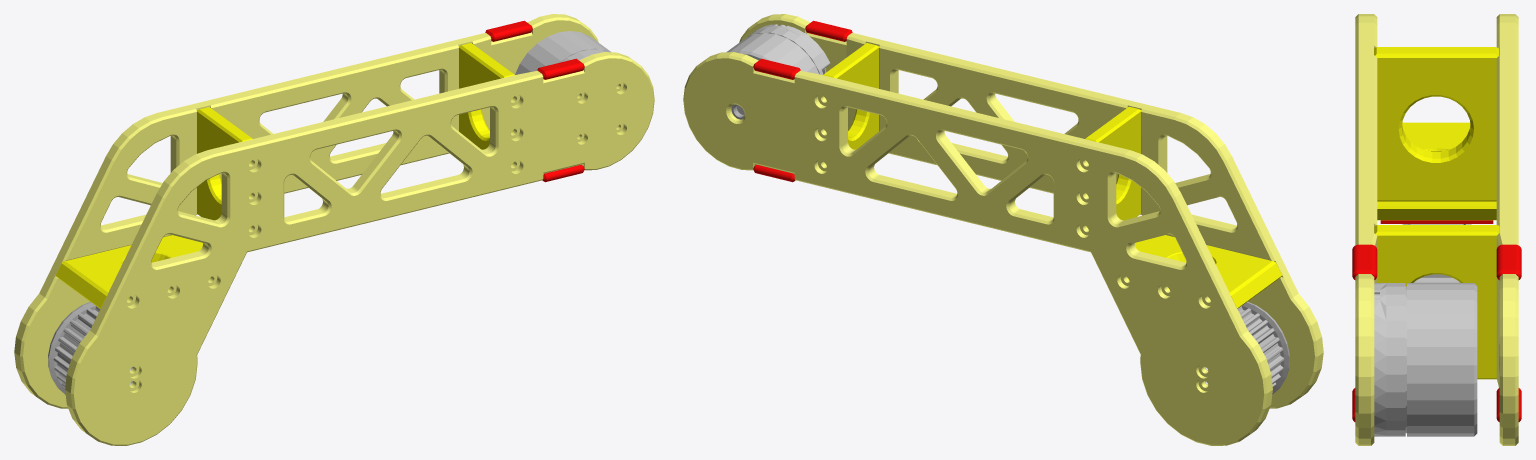
The model's file is elbow_link.dae.
3 views of the same model, side by side, from view 1: azimuth 30°, elevation 25°; view 2: azimuth 150°, elevation 25°; view 3: azimuth 270°, elevation 25° (orthographic). The views are drawn at different scales.
Visible parts, largest first — view 1: node7, node6, node12, node1, node5, node9, node10; view 2: node6, node7, node12, node10, node1, node5, node9; view 3: node10, node1, node6, node5, node7, node12, node4, node13, node8, node9, node2.
Part boxes in pixels (x1,y1,x2,y2): node7: (65,52,654,445); node6: (14,14,598,408); node12: (55,235,210,308); node1: (197,107,252,228); node5: (459,43,514,164); node9: (48,301,100,394); node10: (515,31,618,136); node6: (683,52,1272,445); node7: (739,14,1323,408); node12: (1127,235,1282,308); node10: (726,24,830,114); node1: (1085,106,1140,228); node5: (823,43,878,164); node9: (1237,301,1289,394); node10: (1374,283,1477,436); node1: (1374,47,1498,201); node6: (1496,14,1518,445); node5: (1374,225,1499,379); node7: (1355,14,1377,445); node12: (1377,122,1496,220); node4: (1352,244,1377,279); node13: (1496,244,1521,279); node8: (1380,220,1493,223); node9: (1402,224,1471,282); node2: (1496,388,1521,422).
Bounding box in the file's own units: 0.2988 × 0.054 × 0.1337.
